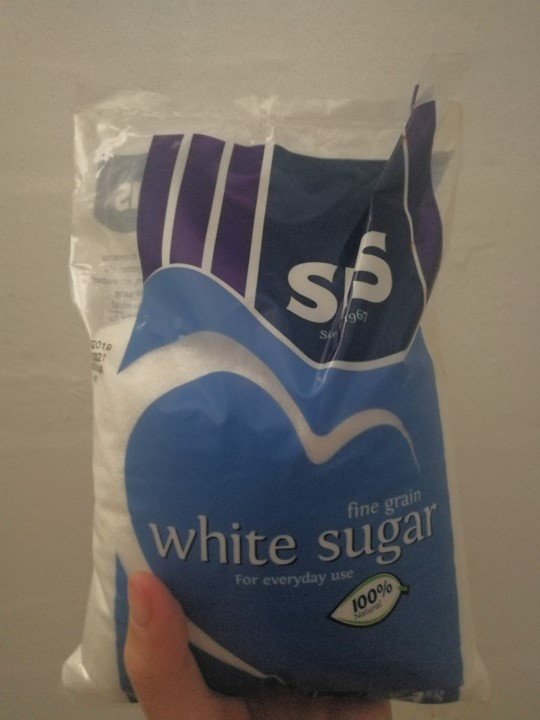sis white sugar: (72, 112, 484, 703)
